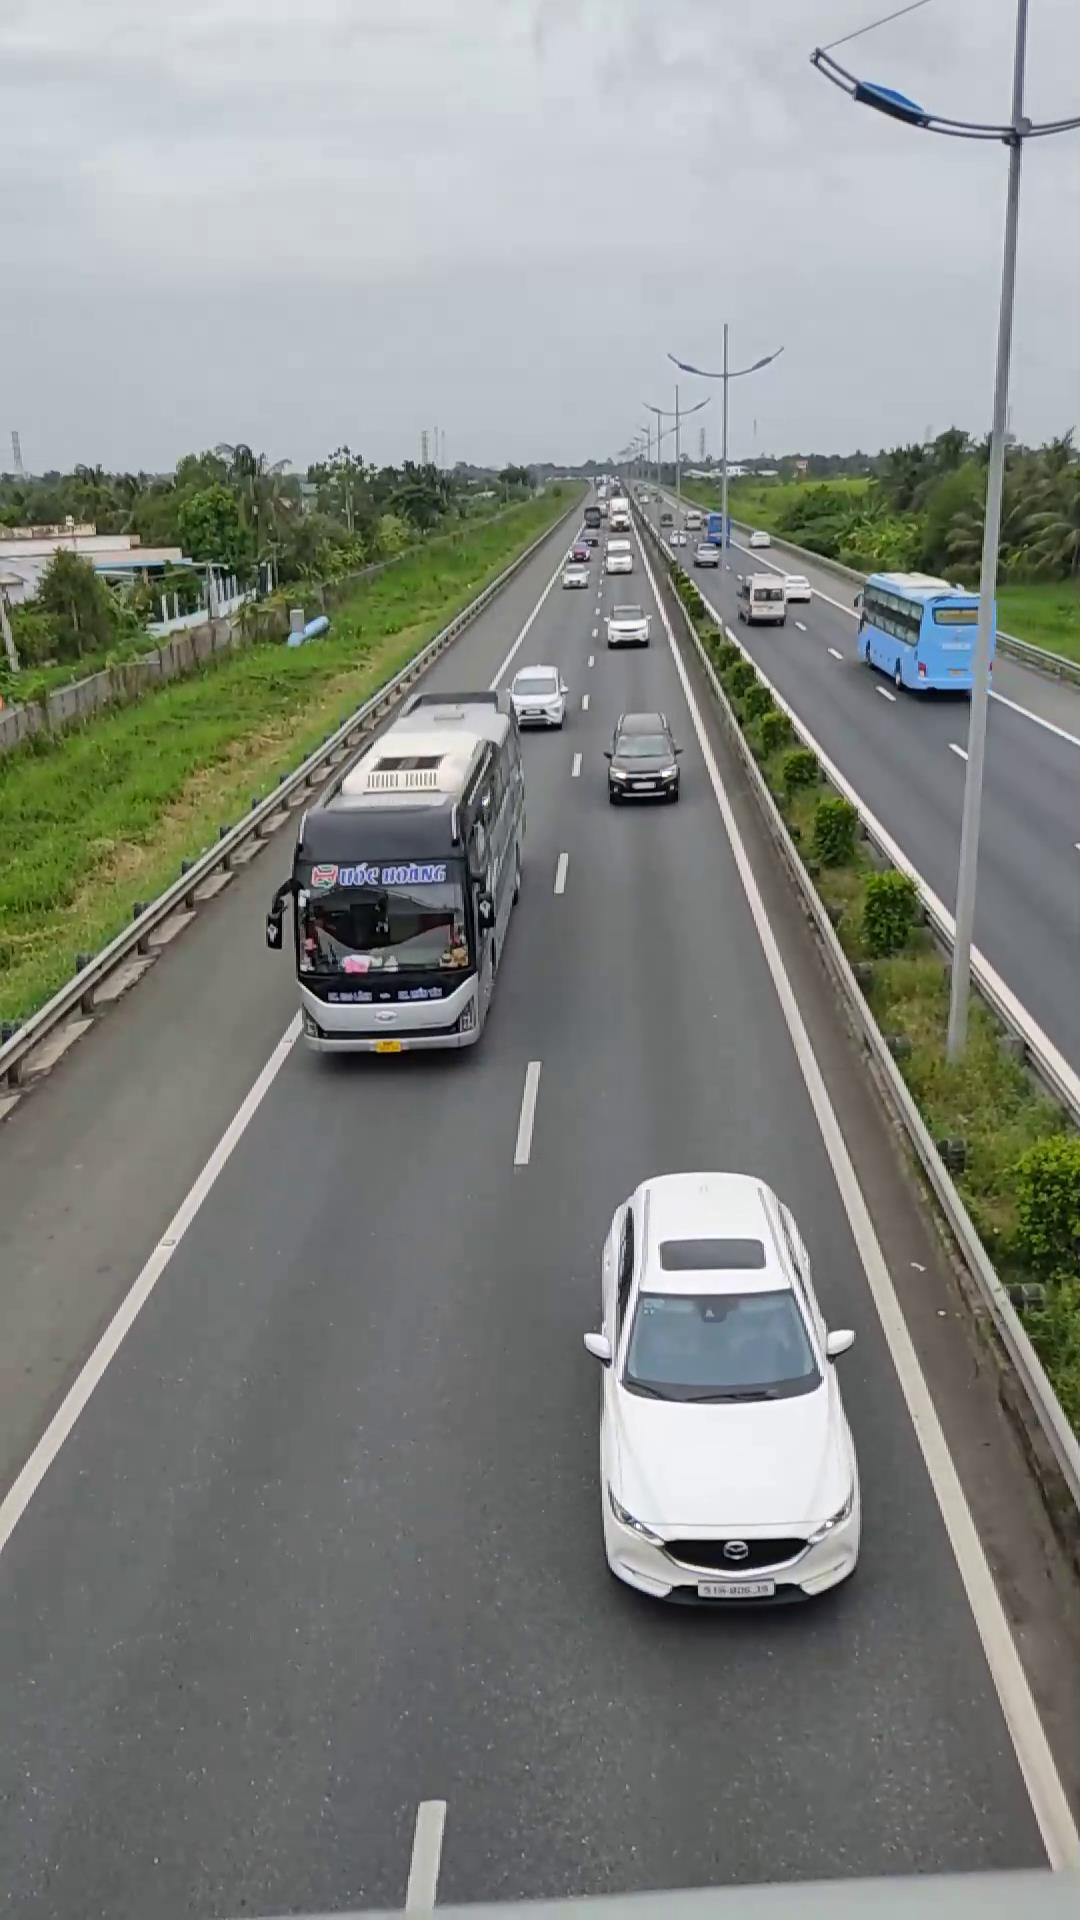bus: (272, 696, 525, 1056)
car: (583, 1168, 865, 1610), (603, 712, 684, 804), (498, 663, 572, 728)
